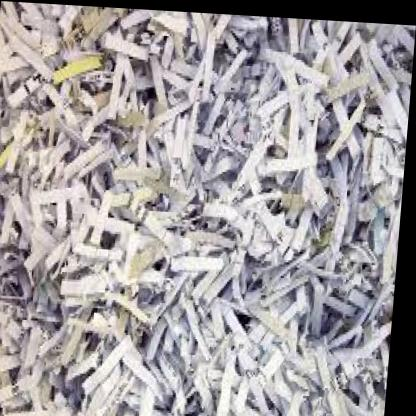Paper: (0, 7, 413, 416)
